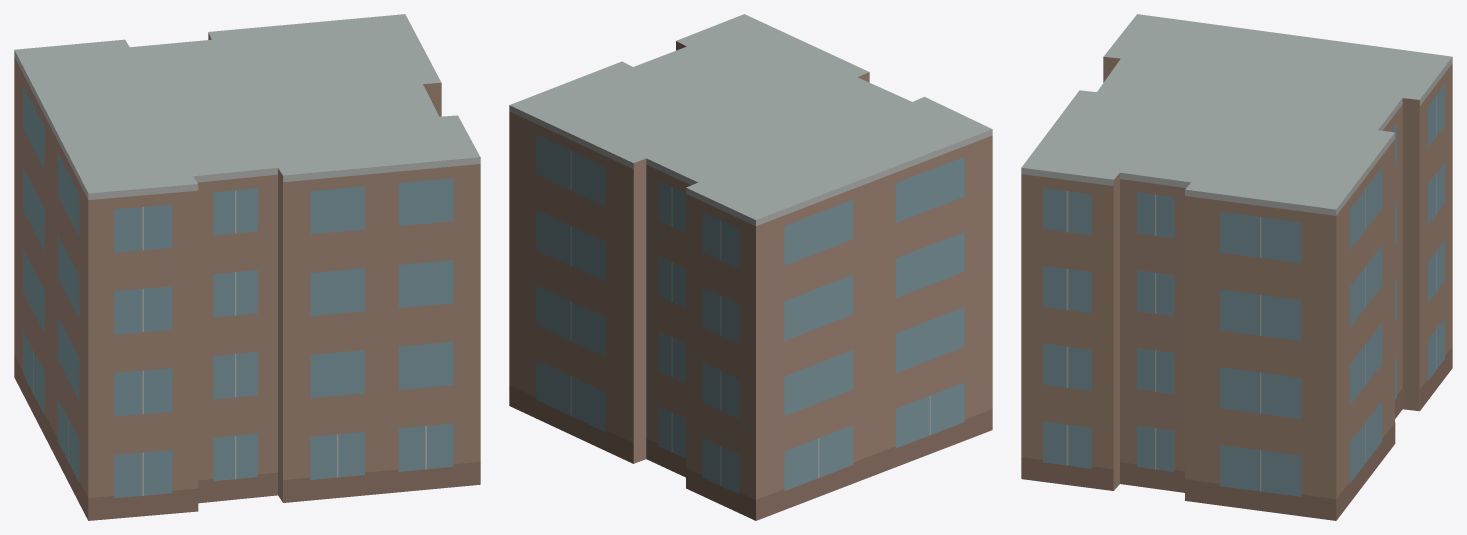
The model's file is survey-upis-32907841.glb.
3 renders of one model, left to right at view 1: azimuth 30°, elevation 25°; view 2: azimuth 150°, elevation 25°; view 3: azimuth 270°, elevation 25°, orthographic. The views are drawn at different scales.
Parts seen in each view (by area): view 1: survey-upis-32907841.tmp; view 2: survey-upis-32907841.tmp; view 3: survey-upis-32907841.tmp.
Part boxes in pixels (x1,y1,x2,y2): survey-upis-32907841.tmp: (14, 14, 480, 520); survey-upis-32907841.tmp: (509, 14, 992, 520); survey-upis-32907841.tmp: (1021, 14, 1452, 520).
Bounding box in the file's own units: 16.18 × 12 × 15.08.
